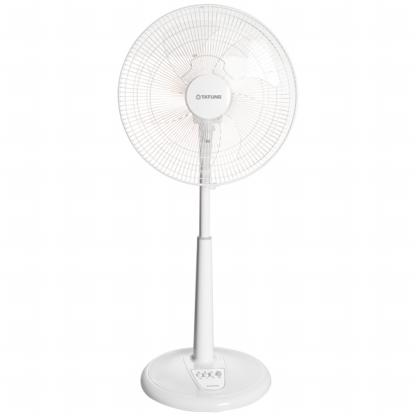fan: (110, 2, 303, 414)
